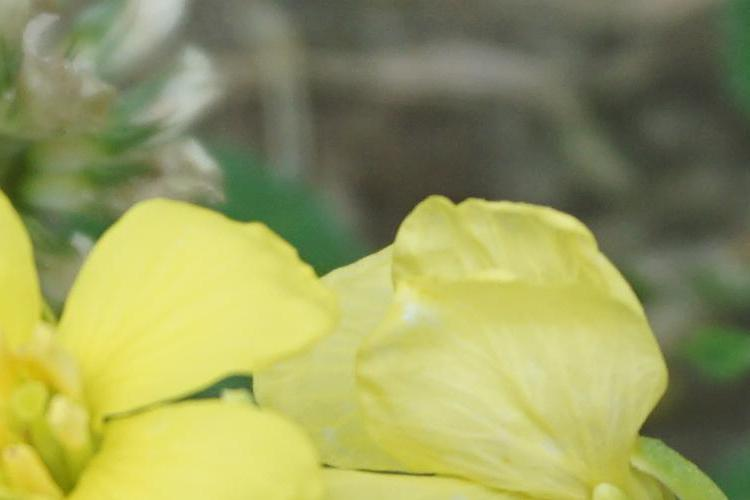yellow: (269, 192, 727, 500), (4, 191, 317, 496)
